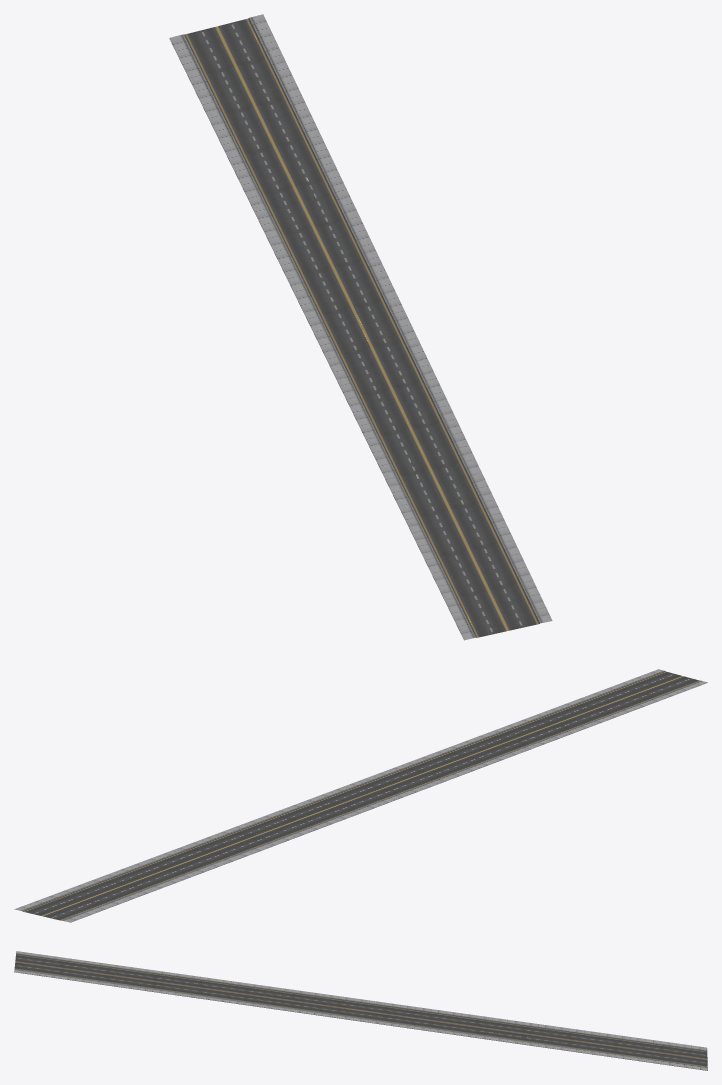
Rendered from road21.glb.
The picture shows the model from 3 angles, top to bottom: view 1: azimuth 30°, elevation 25°; view 2: azimuth 150°, elevation 25°; view 3: azimuth 270°, elevation 25°; orthographic projection. The views are drawn at different scales.
Parts seen in each view (by area): view 1: Road_4X_Straight_City_Road_mat_0.010; view 2: Road_4X_Straight_City_Road_mat_0.010; view 3: Road_4X_Straight_City_Road_mat_0.010.
Boxes of the visible parts, box(x1,y1,x2,y2) form: Road_4X_Straight_City_Road_mat_0.010: box(169, 14, 552, 640); Road_4X_Straight_City_Road_mat_0.010: box(14, 669, 707, 922); Road_4X_Straight_City_Road_mat_0.010: box(14, 951, 707, 1070).
Size of the model in its own units: 177 by 0.1636 by 433.
Materials: 1 (1 with a texture image).
